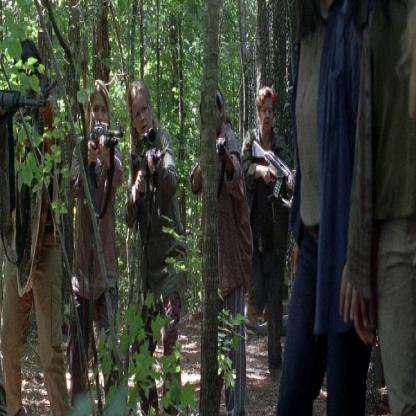Guns: (0, 64, 58, 151), (249, 138, 300, 202), (128, 127, 164, 203), (82, 119, 124, 184), (213, 127, 226, 165)
